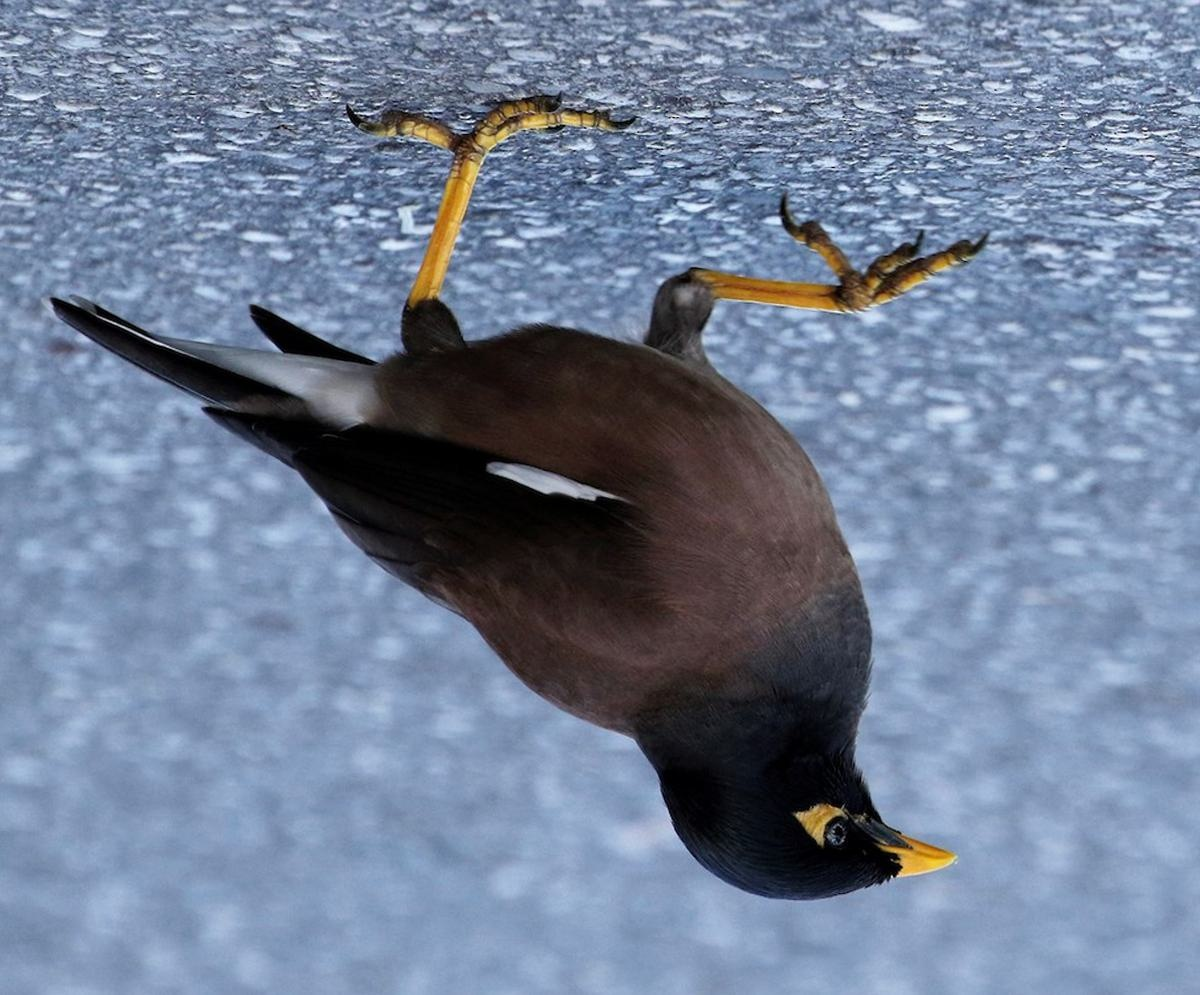myna: (183, 69, 1017, 921)
